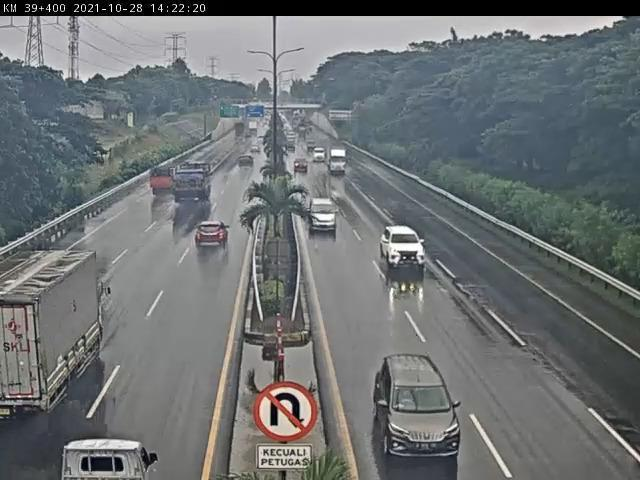car: (371, 355, 468, 464), (379, 221, 428, 271), (195, 224, 232, 255), (309, 196, 338, 232)
truck: (1, 248, 107, 419), (170, 164, 214, 206), (147, 168, 179, 199)
